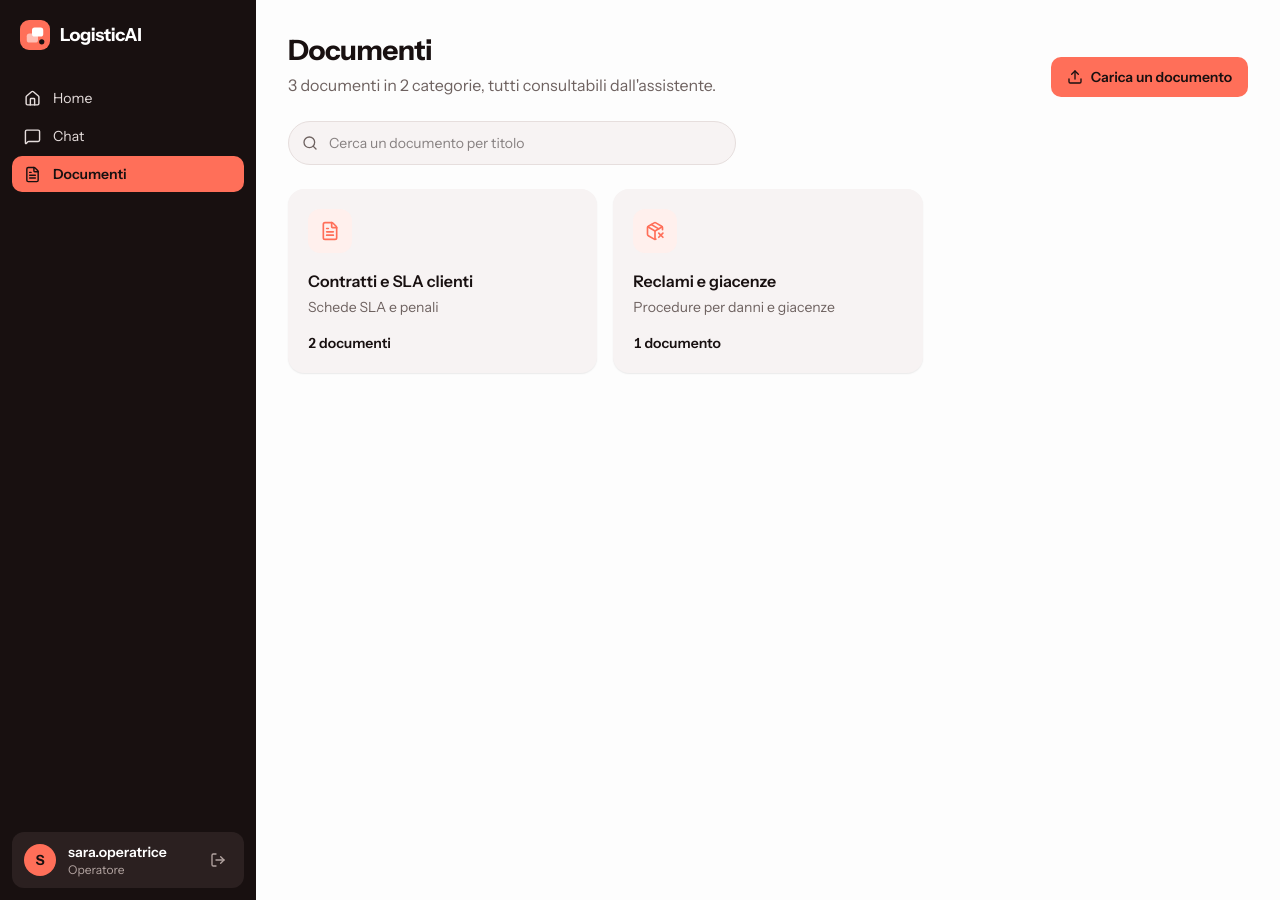
Test: documenti › categorie a riquadri, poi elenco con stato e "Chiedi a questo documento"
The image size is (1280, 900).
Click the link "Reclami e giacenze" at coordinates (768, 281), box [613,189,923,373]
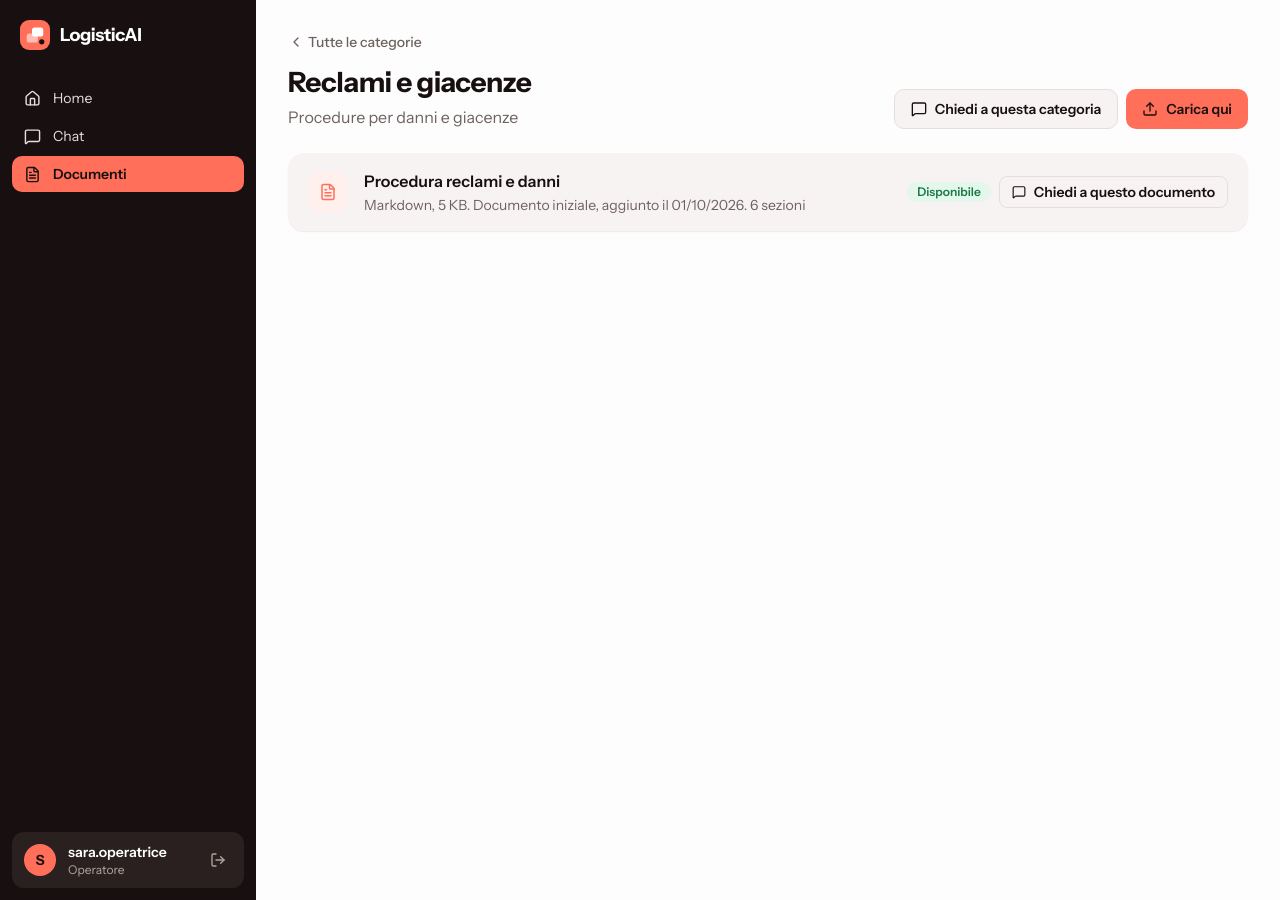
expect the text "Procedura reclami e danni" is shown: met, box [364,171,560,191]
expect the text "Disponibile" is shown: met, box [907,182,991,202]
expect the text "6 sezioni" is shown: met, box [364,196,806,214]
